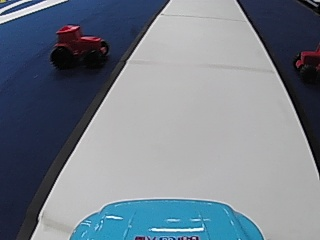tractor: (49, 22, 109, 70), (291, 42, 319, 83)
